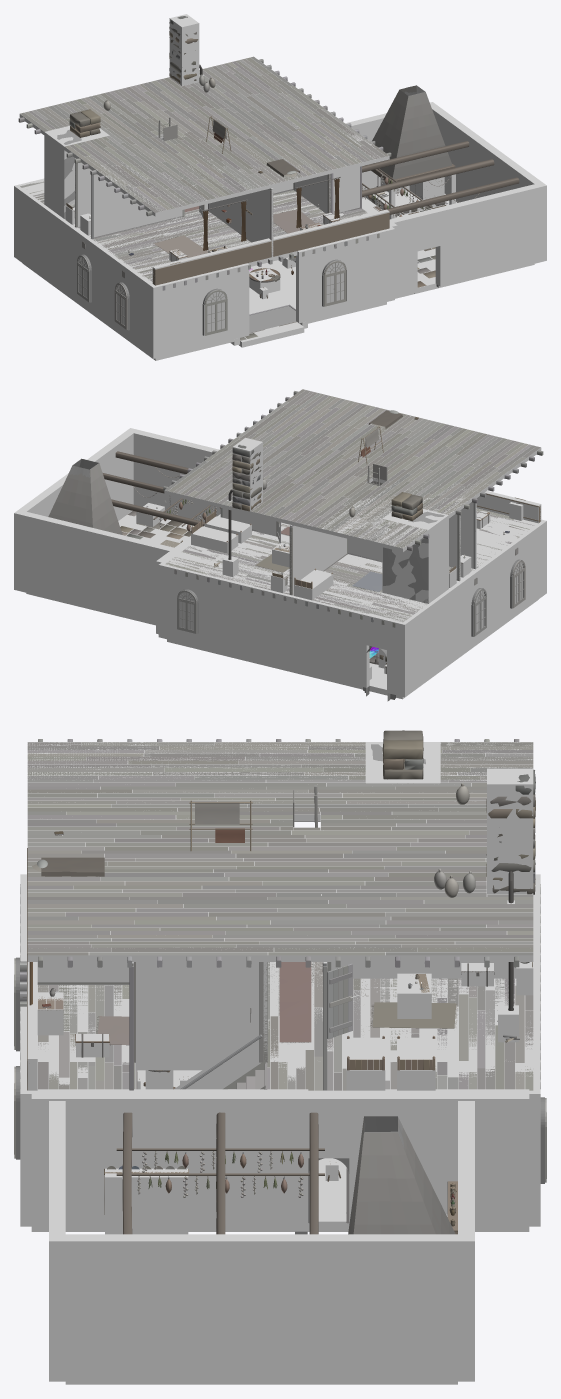
The model's file is tavern_interior.glb.
3 views of the same model, one above another, from view 1: azimuth 30°, elevation 25°; view 2: azimuth 150°, elevation 25°; view 3: azimuth 270°, elevation 25° (orthographic). The views are drawn at different scales.
Parts seen in each view (by area): view 1: hall wall.005, kitchen wall.001, hall wall, hall wall.001, Interior timber +2+1__tav_plank, Interior timber +1+0__tav_plank, Interior timber +1+1__tav_plank, Interior timber +2+0__tav_plank, kitchen wall.004, attic floor.001, attic floor, upper floor (+53 smaller); view 2: hall wall.003, kitchen wall.003, hall wall.005, Interior timber +1+0__tav_plank, Interior timber +1+1__tav_plank, Interior timber +2+0__tav_plank, Interior timber +2+1__tav_plank, attic floor, kitchen wall.001, upper breast, attic floor.001, upper floor.002 (+46 smaller); view 3: kitchen wall.004, hall wall.006, Interior timber +2+1__tav_plank, Interior timber +1+0__tav_plank, Interior timber +2+0__tav_plank, Interior timber +1+1__tav_plank, hall wall.007, stairwell wall, attic floor.001, Interior masonry +4+1__tav_limewash, attic floor, Interior timber +0+0__tav_plank (+48 smaller).
Part boxes in pixels (x1,y1,x2,y2): hall wall.005: [17, 187, 153, 356]; kitchen wall.001: [435, 182, 546, 286]; hall wall: [150, 263, 249, 358]; hall wall.001: [296, 227, 394, 323]; Interior timber +2+1__tav_plank: [156, 56, 324, 142]; Interior timber +1+0__tav_plank: [114, 133, 290, 204]; Interior timber +1+1__tav_plank: [79, 82, 229, 172]; Interior timber +2+0__tav_plank: [236, 108, 388, 179]; kitchen wall.004: [431, 105, 541, 202]; attic floor.001: [116, 57, 389, 193]; attic floor: [19, 95, 235, 216]; upper floor: [73, 191, 323, 280]; hall wall.003: [158, 562, 369, 687]; kitchen wall.003: [14, 510, 173, 624]; hall wall.005: [404, 522, 543, 694]; Interior timber +1+0__tav_plank: [341, 413, 507, 494]; Interior timber +1+1__tav_plank: [273, 456, 457, 532]; Interior timber +2+0__tav_plank: [237, 389, 401, 464]; Interior timber +2+1__tav_plank: [165, 431, 347, 514]; attic floor: [321, 428, 541, 551]; kitchen wall.001: [126, 428, 220, 521]; upper breast: [382, 508, 448, 603]; attic floor.001: [164, 390, 441, 528]; upper floor.002: [198, 554, 427, 622]; kitchen wall.004: [65, 1234, 457, 1381]; hall wall.006: [31, 1089, 308, 1231]; Interior timber +2+1__tav_plank: [183, 866, 533, 955]; Interior timber +1+0__tav_plank: [27, 772, 308, 865]; Interior timber +2+0__tav_plank: [27, 866, 327, 955]; Interior timber +1+1__tav_plank: [176, 772, 486, 865]; hall wall.007: [349, 1089, 529, 1231]; stairwell wall: [136, 962, 259, 1062]; attic floor.001: [27, 827, 533, 961]; Interior masonry +4+1__tav_limewash: [350, 1116, 447, 1234]; attic floor: [27, 742, 532, 821]; Interior timber +0+0__tav_plank: [27, 742, 307, 771].
Bounding box in the file's own units: 23.39 × 11.84 × 14.33.
